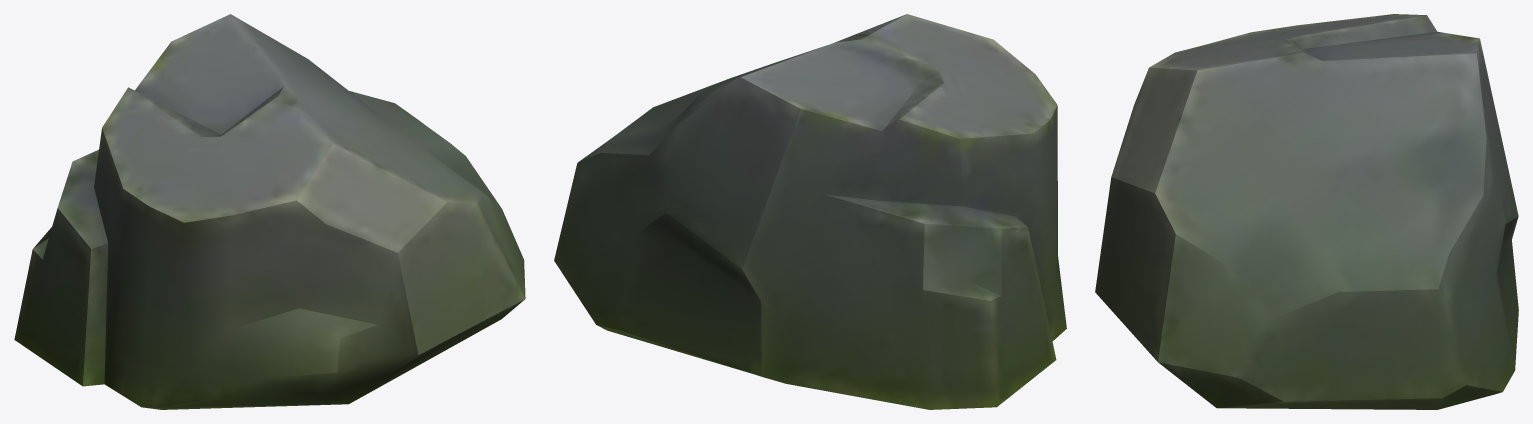
The model's file is rock_granite_a.glb.
3 views of the same model, side by side, from view 1: azimuth 30°, elevation 25°; view 2: azimuth 150°, elevation 25°; view 3: azimuth 270°, elevation 25° (orthographic). The views are drawn at different scales.
Visible parts, largest first — view 1: Rock_Medium_2; view 2: Rock_Medium_2; view 3: Rock_Medium_2.
Part boxes in pixels (box(x1,y1,x2,y2)): Rock_Medium_2: box(14, 14, 525, 409); Rock_Medium_2: box(554, 14, 1066, 409); Rock_Medium_2: box(1095, 14, 1518, 409).
Size of the model in its own units: 3.05 by 1.89 by 2.48.
Materials: 1 (1 with a texture image).
